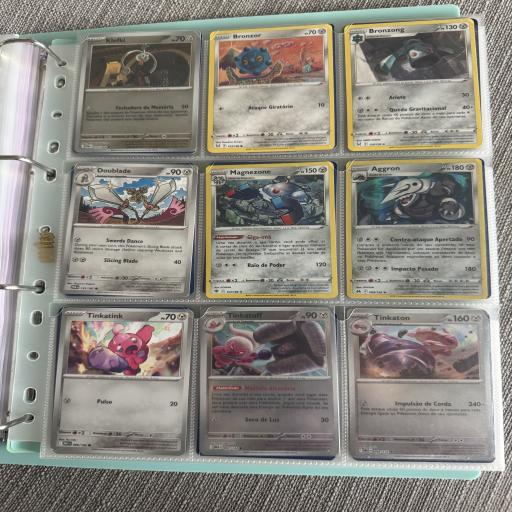card: (346, 304, 495, 465), (51, 305, 194, 455), (199, 307, 341, 456), (346, 158, 488, 300), (201, 161, 338, 302), (60, 161, 199, 297), (343, 18, 482, 152), (207, 22, 336, 155), (74, 29, 201, 154)
